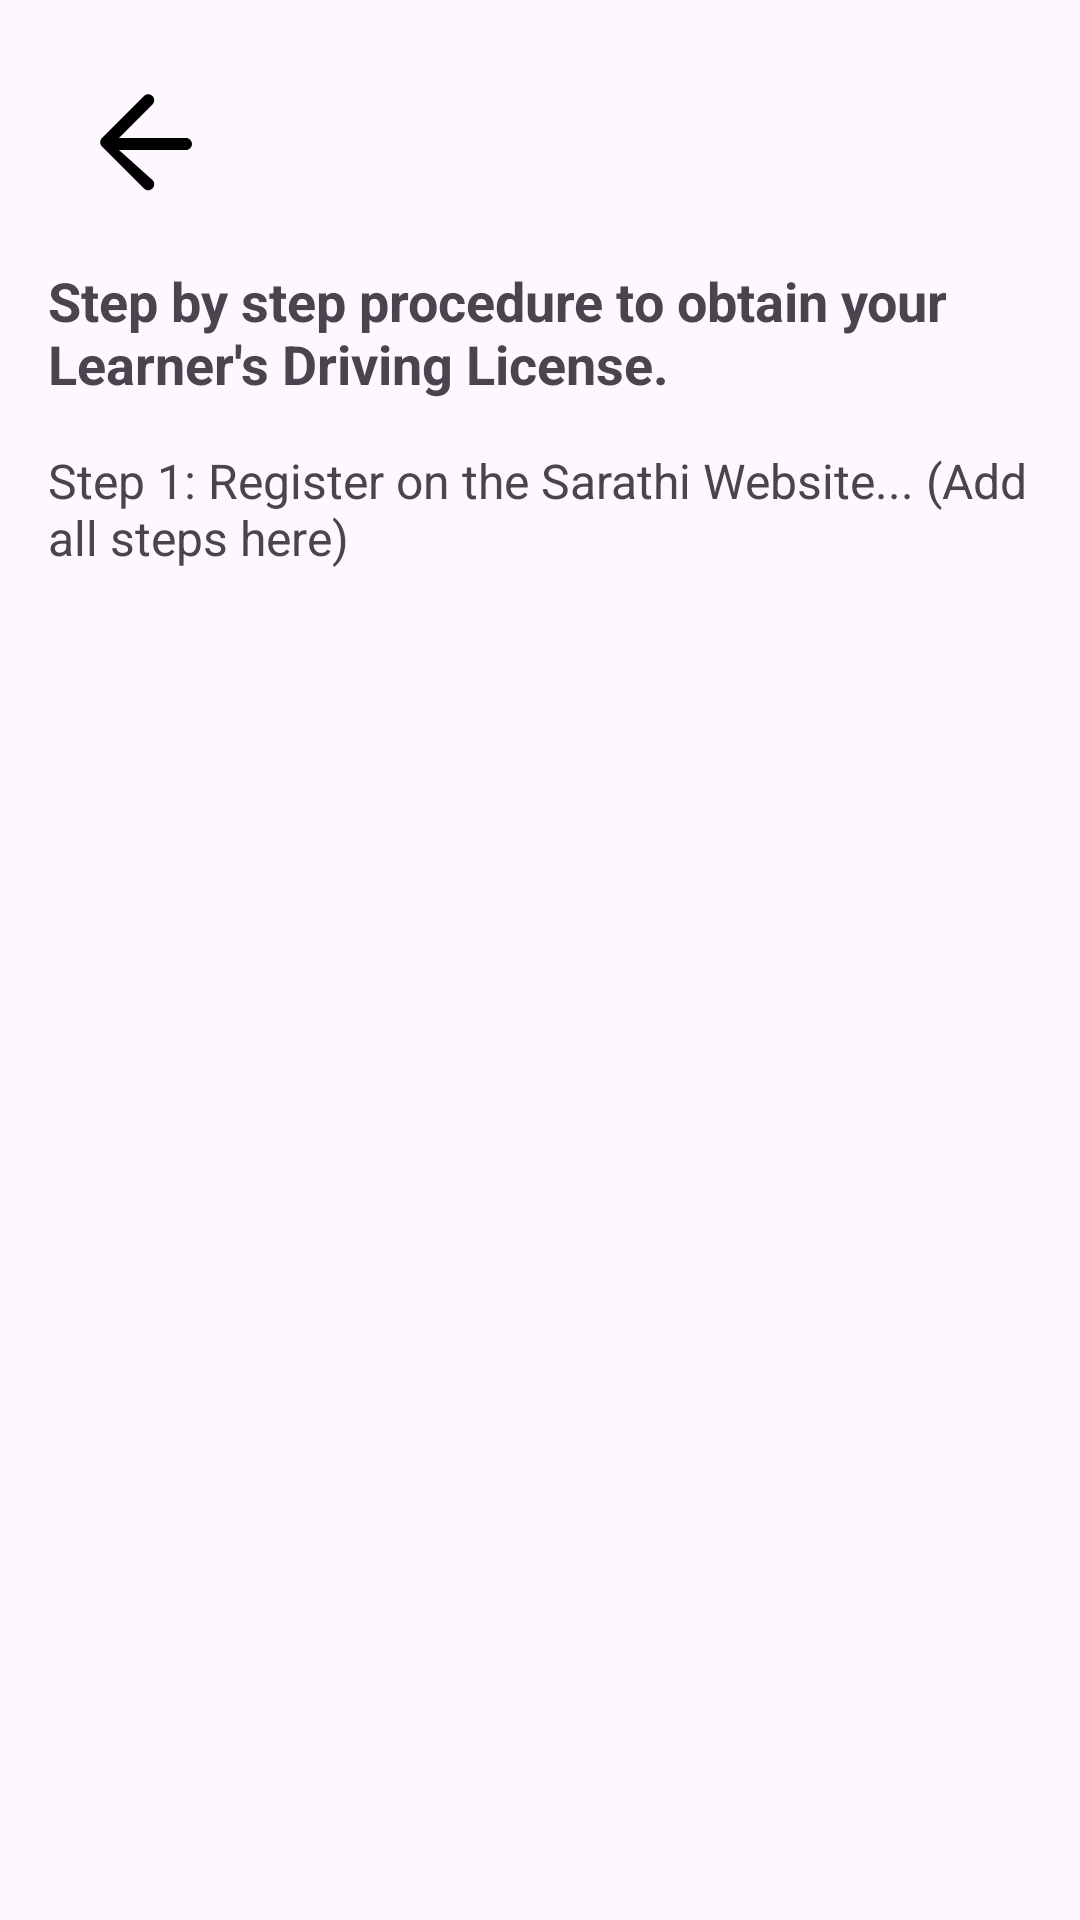

Named icons in this screenshot (1080 x 1920) and their centers, (x=x, y=y):
Back button: (x=146, y=142)
